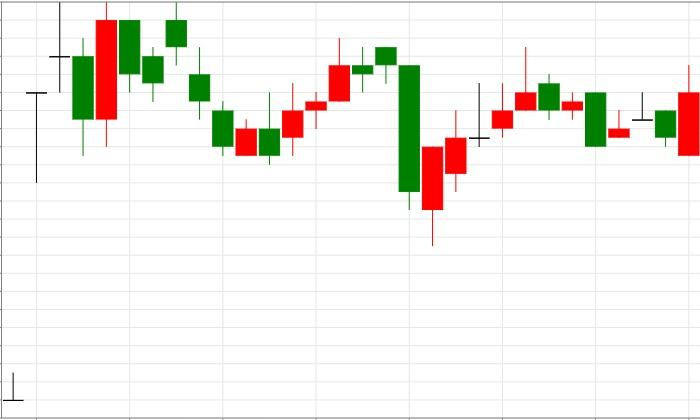inverse_hammer_rise: (166, 2, 280, 165)
